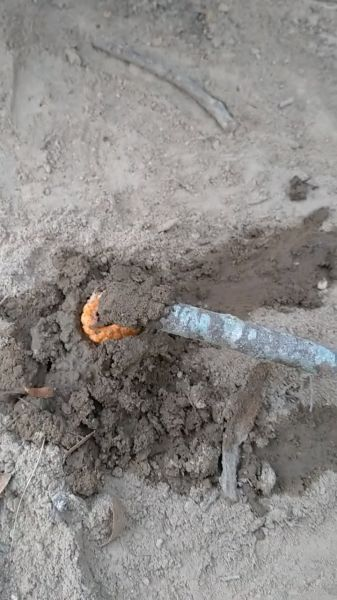eggs: (77, 281, 148, 351)
